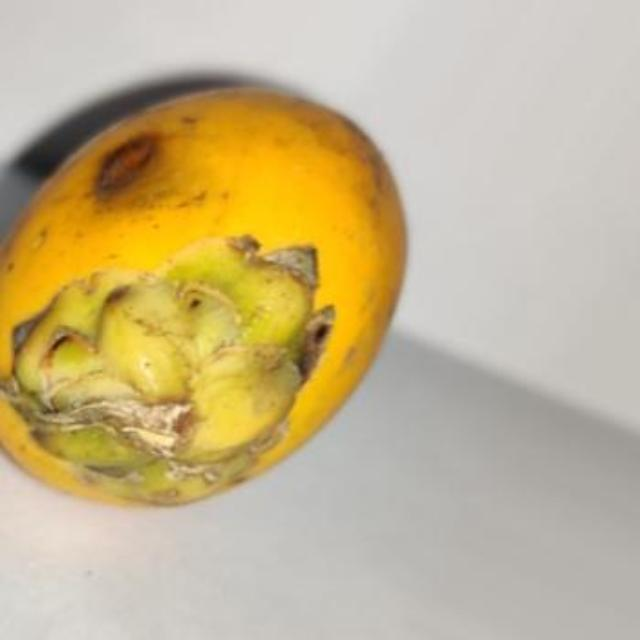good: (0, 84, 410, 510)
